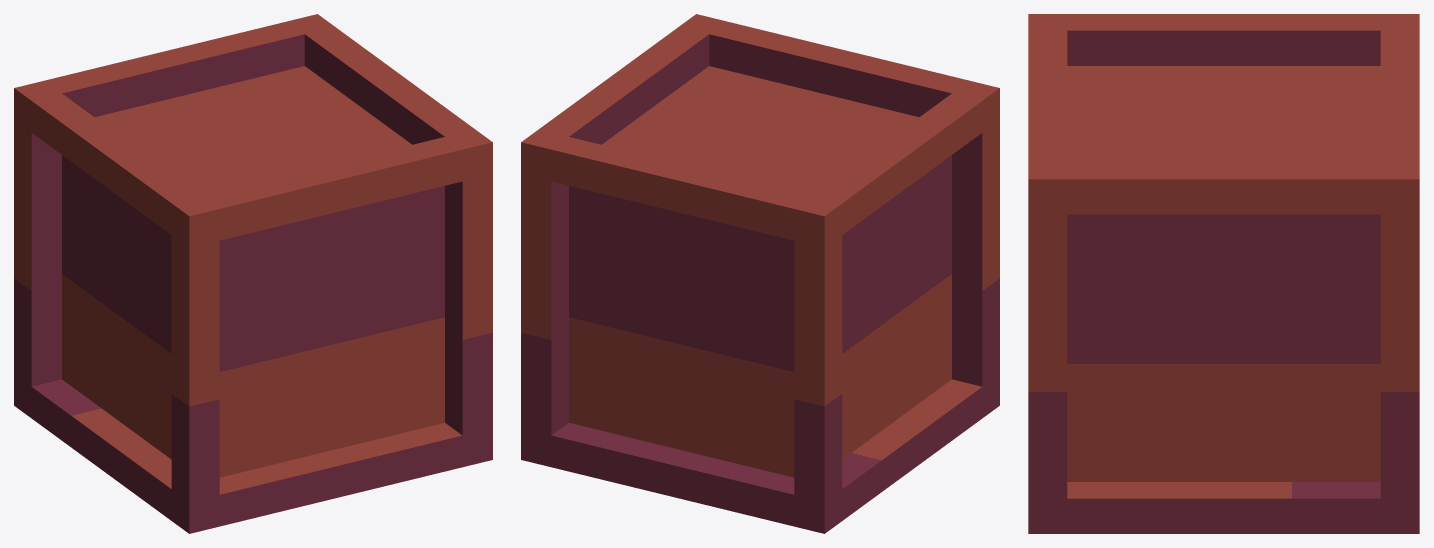
3 renders of one model, left to right at view 1: azimuth 30°, elevation 25°; view 2: azimuth 150°, elevation 25°; view 3: azimuth 270°, elevation 25°, orthographic. The views are drawn at different scales.
Parts seen in each view (by area): view 1: Cube; view 2: Cube; view 3: Cube.
Part boxes in pixels (bbox=[...]): Cube: bbox=[14, 14, 492, 533]; Cube: bbox=[521, 14, 999, 533]; Cube: bbox=[1028, 14, 1419, 533].
Bounding box in the file's own units: 0.9 × 0.9 × 0.9.
Materials: 1 (1 with a texture image).
